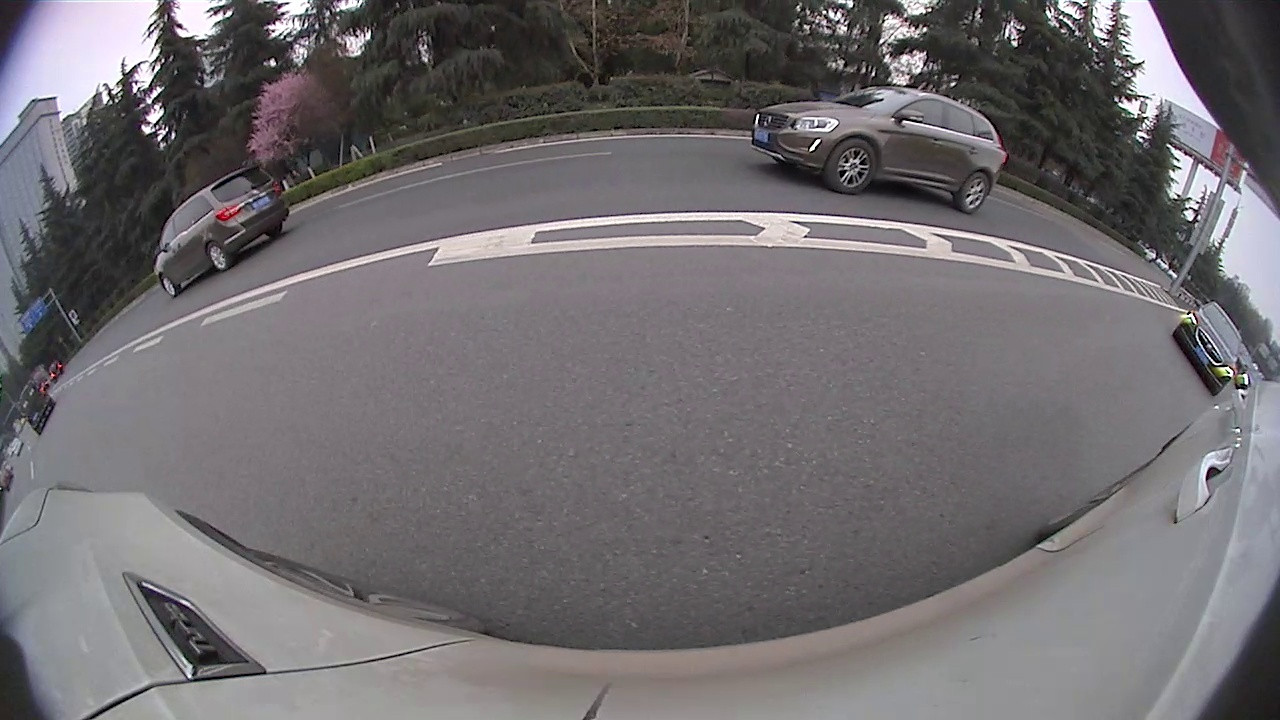car: (747, 84, 1008, 216), (151, 161, 290, 300), (1170, 297, 1249, 396), (16, 379, 58, 437)
front: (829, 140, 876, 194), (160, 273, 178, 298)
rear: (960, 173, 989, 213), (207, 242, 229, 272)
